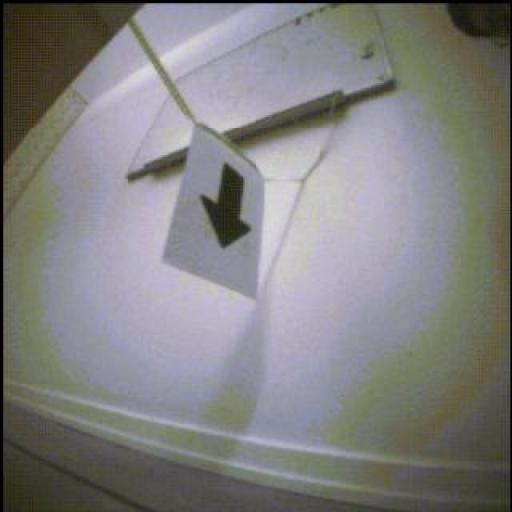arrow: (201, 166, 252, 249)
